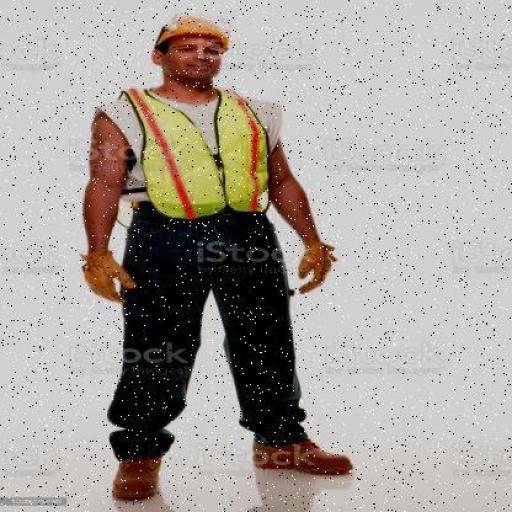person: (66, 19, 357, 502)
safety_shoe: (251, 438, 350, 480), (105, 445, 165, 504)
